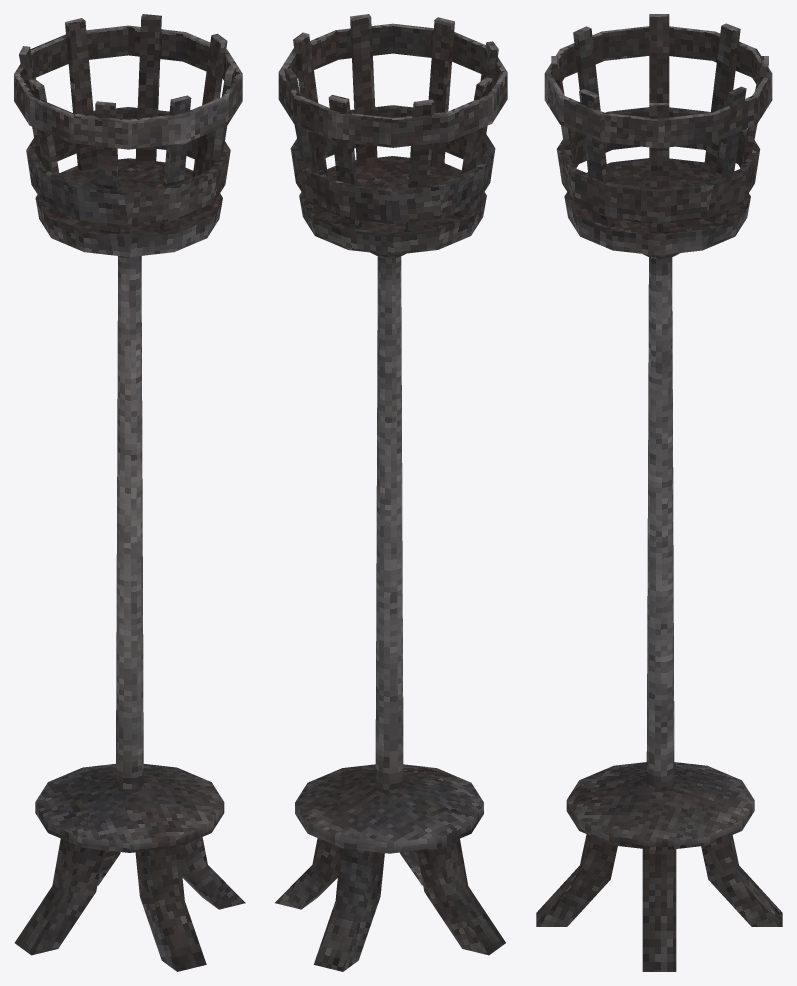
The model's file is Brazier_5.gltf.
The picture shows the model from 3 angles, left to right: view 1: azimuth 30°, elevation 25°; view 2: azimuth 150°, elevation 25°; view 3: azimuth 270°, elevation 25°; orthographic projection.
Visible parts, largest first — view 1: Brazier_5; view 2: Brazier_5; view 3: Brazier_5.
Part boxes in pixels (x1,y1,x2,y2): Brazier_5: [14, 14, 245, 971]; Brazier_5: [275, 14, 507, 971]; Brazier_5: [536, 14, 782, 971].
Size of the model in its own units: 1.36 by 5.24 by 1.36.
Materials: 1 (1 with a texture image).
